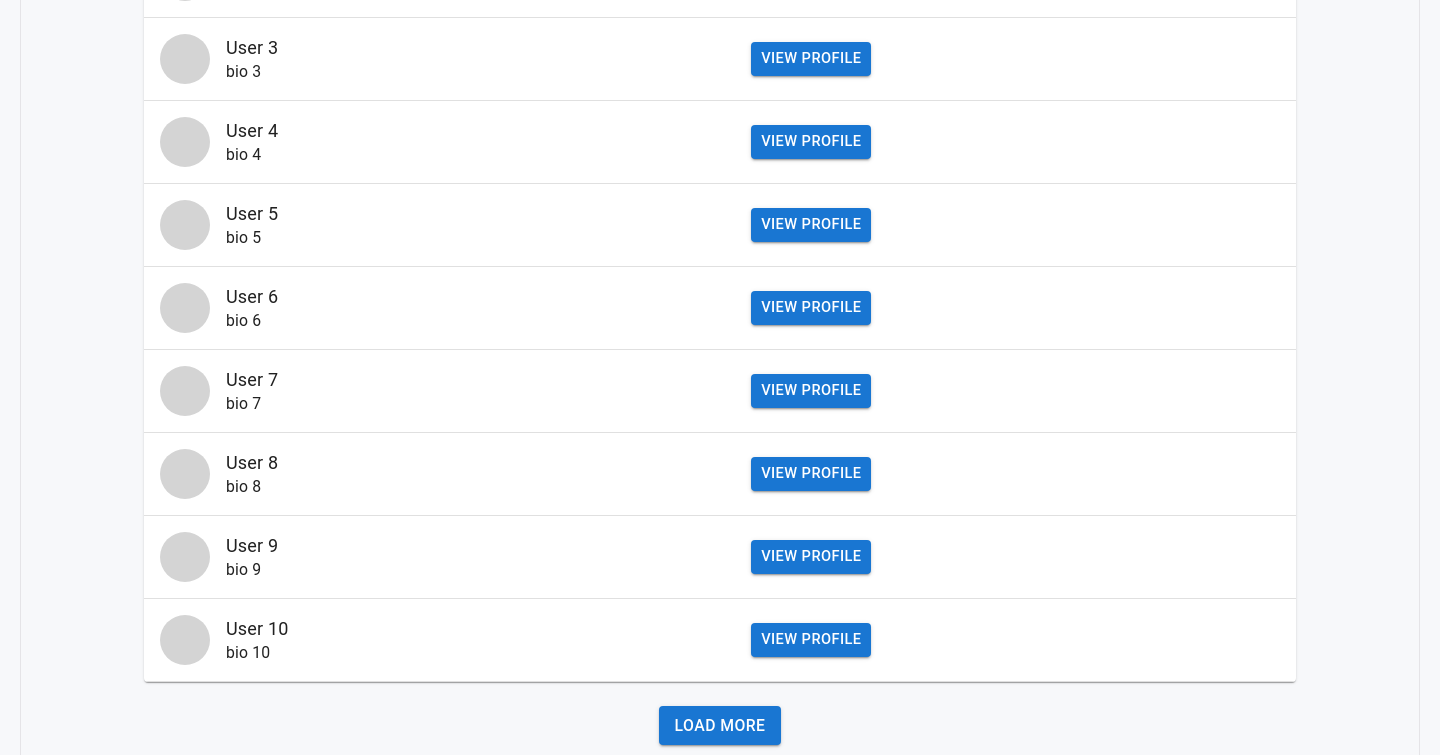
Test: Users › offers Load More only while a full page keeps coming back
(page scrolled)
Click the button "Load More" at (720, 726), box x1=658 y1=706 x2=781 y2=746
(page scrolled)
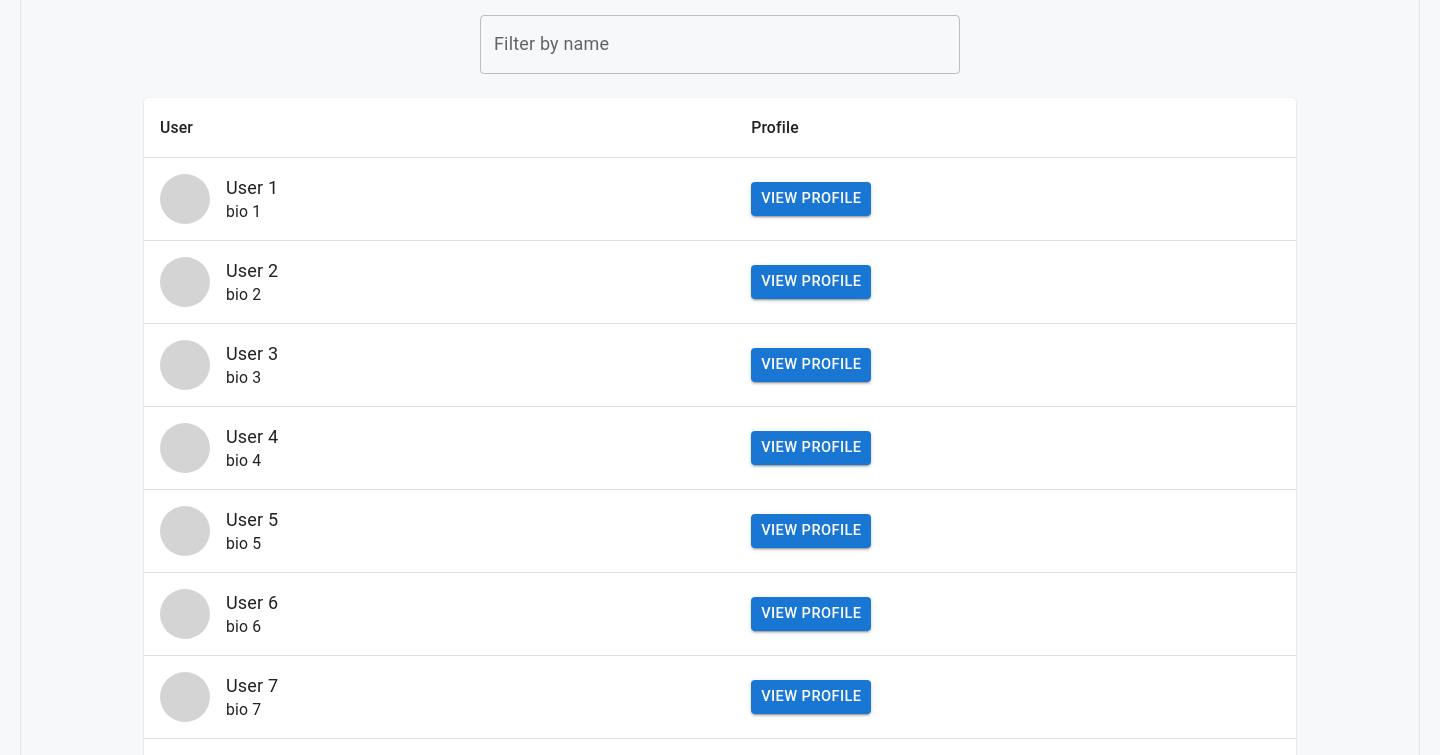
Expected: the text "User 1" is shown, x1=226 y1=174 x2=278 y2=201
Expected: the button "Load More" is gone
